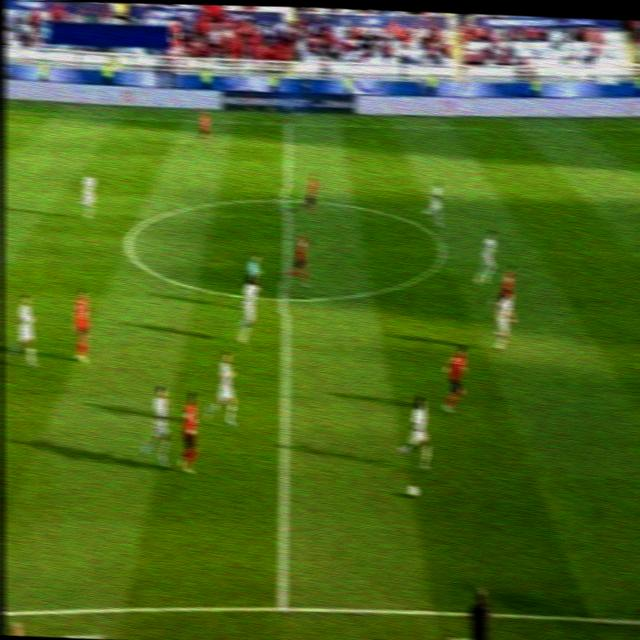halfcircle_bottom: (273, 282, 298, 314)
halfcircle_top: (275, 188, 298, 212)
midline_bottom_intersection: (266, 584, 299, 625)
midline_top_intersection: (279, 111, 297, 133)
